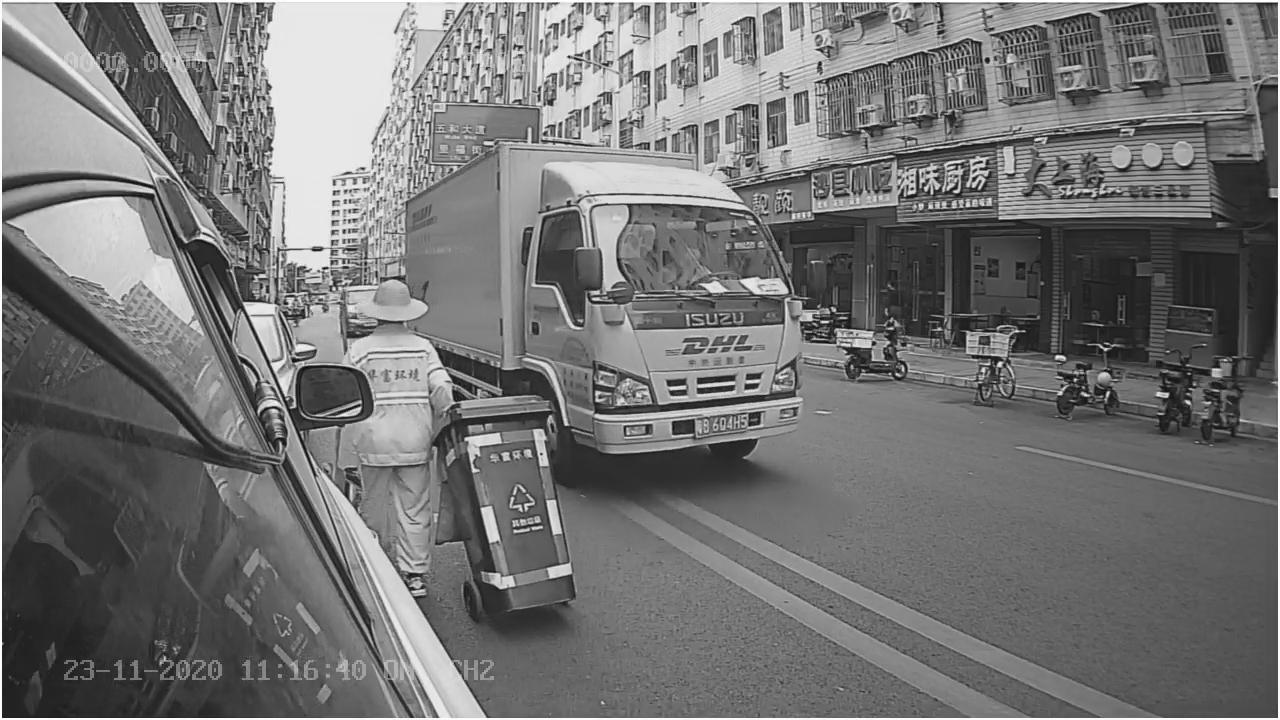person: (347, 273, 460, 402)
